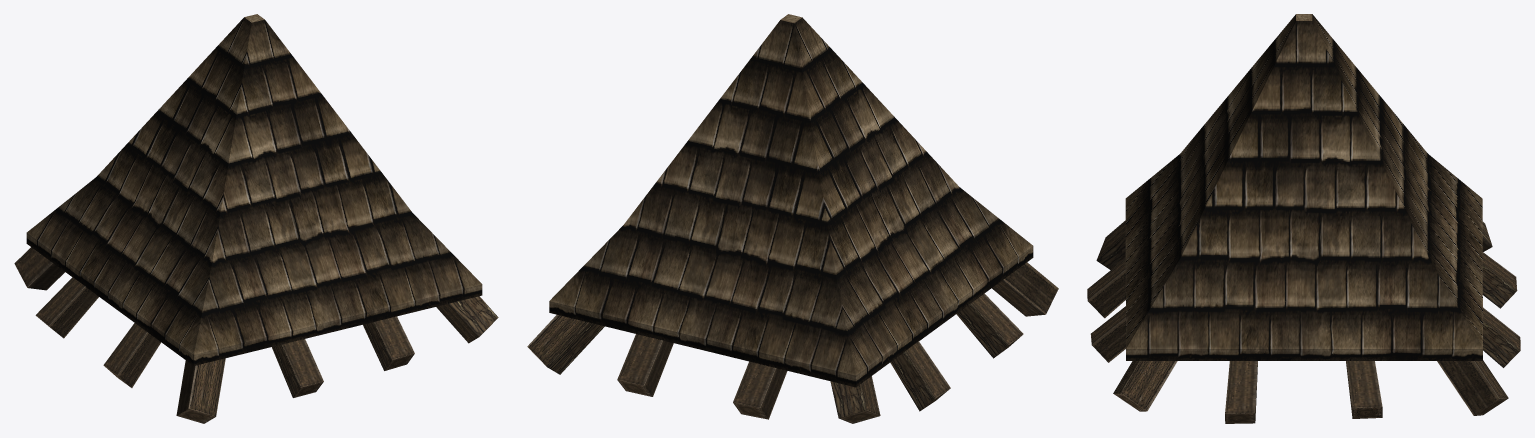
The model's file is Roof_4X4_03a.fbx.
3 views of the same model, side by side, from view 1: azimuth 30°, elevation 25°; view 2: azimuth 150°, elevation 25°; view 3: azimuth 270°, elevation 25° (orthographic). The views are drawn at different scales.
Parts seen in each view (by area): view 1: Roof_4X4_03a; view 2: Roof_4X4_03a; view 3: Roof_4X4_03a.
Boxes of the visible parts, <box> form: Roof_4X4_03a: <box>14,14,498,423</box>; Roof_4X4_03a: <box>527,14,1058,423</box>; Roof_4X4_03a: <box>1087,14,1520,423</box>.
Bounding box in the file's own units: 5.87 × 4.9 × 5.81.
